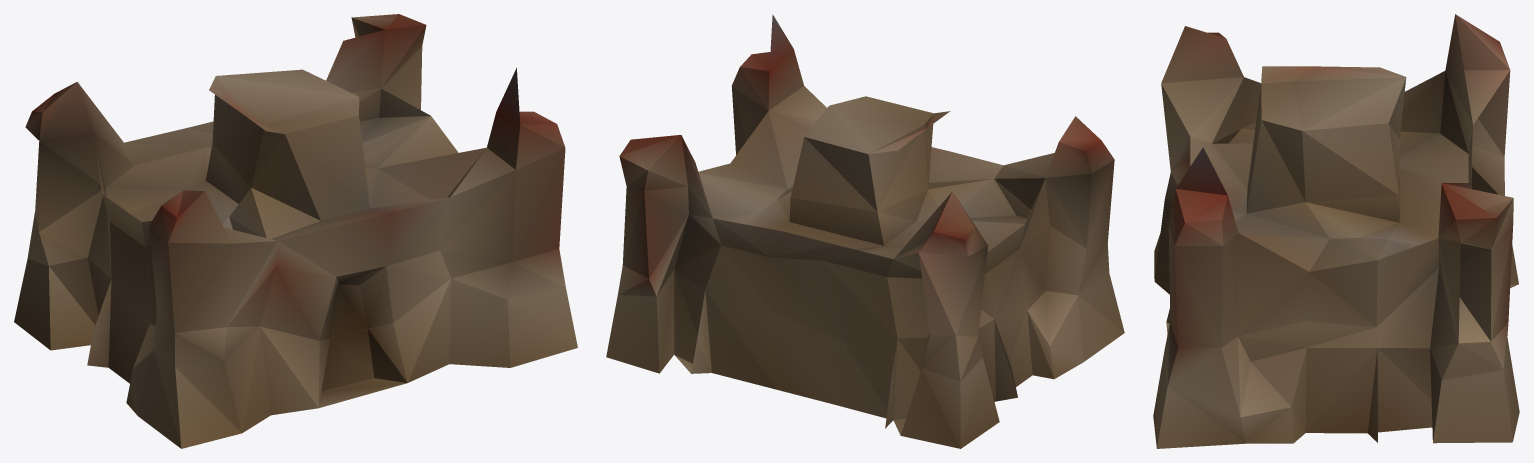
The model's file is fortress-keep.glb.
The picture shows the model from 3 angles, left to right: view 1: azimuth 30°, elevation 25°; view 2: azimuth 150°, elevation 25°; view 3: azimuth 270°, elevation 25°; orthographic projection. The views are drawn at different scales.
Visible parts, largest first — view 1: fortress-keep-far; view 2: fortress-keep-far; view 3: fortress-keep-far.
Boxes of the visible parts, x1=… form: fortress-keep-far: x1=14, y1=14, x2=577, y2=448; fortress-keep-far: x1=606, y1=14, x2=1124, y2=448; fortress-keep-far: x1=1153, y1=14, x2=1519, y2=448.
Bounding box in the file's own units: 30.7 × 20.7 × 23.65.
